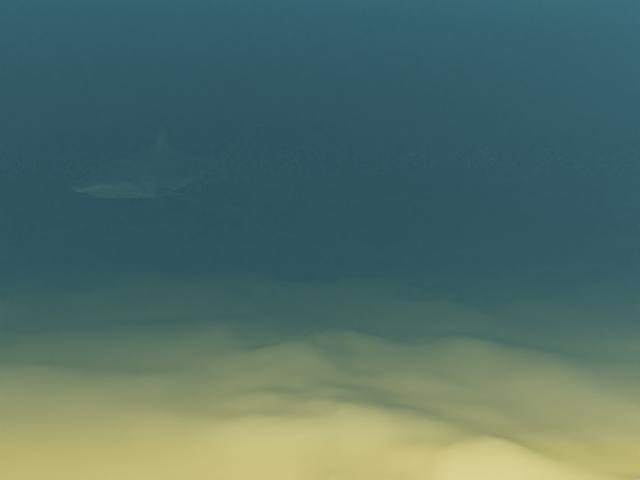Carribean Shark.001: (71, 121, 262, 202)
